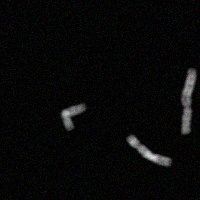chromosome: (126, 135, 169, 166), (179, 68, 196, 134), (62, 103, 86, 130)
